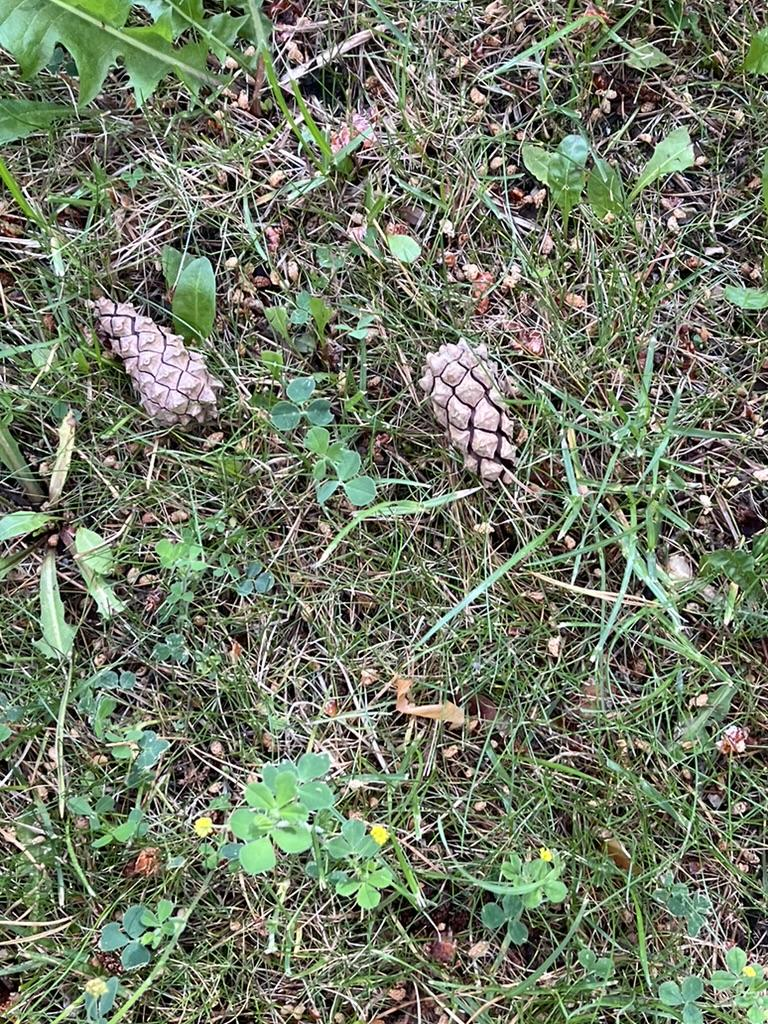pine: (61, 280, 241, 446), (414, 333, 534, 496)
